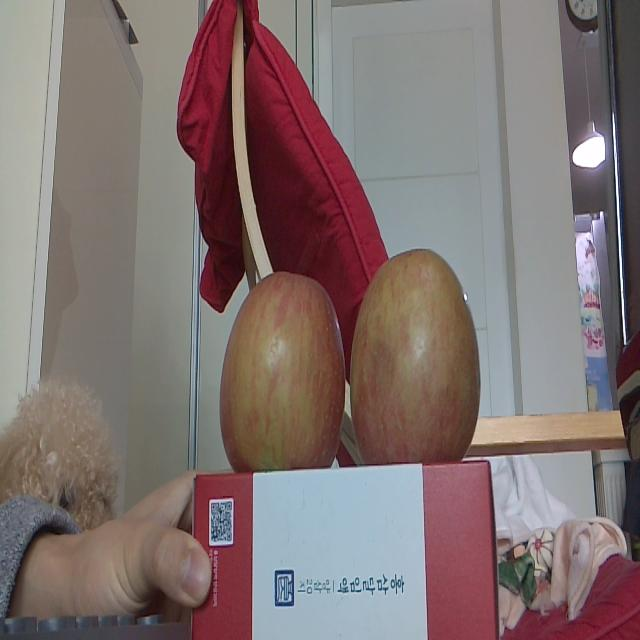apple: (350, 251, 480, 462), (220, 269, 344, 466)
